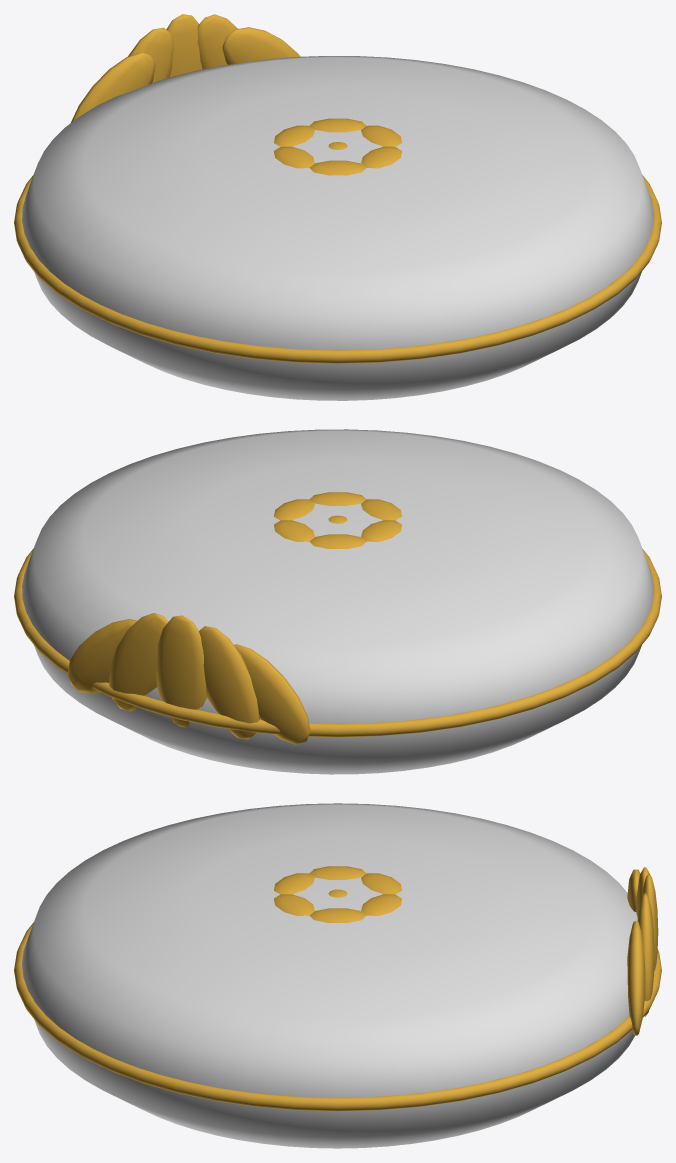
File: goi_v2.glb
3 renders of one model, top to bottom at view 1: azimuth 30°, elevation 25°; view 2: azimuth 150°, elevation 25°; view 3: azimuth 270°, elevation 25°, orthographic.
Visible parts, largest first — view 1: GoiV2; view 2: GoiV2; view 3: GoiV2.
Part boxes in pixels (box(x1,y1,x2,y2)): GoiV2: box(14, 14, 661, 400); GoiV2: box(14, 429, 661, 774); GoiV2: box(14, 803, 661, 1148).
Size of the model in its own units: 0.458 by 0.134 by 0.458.
